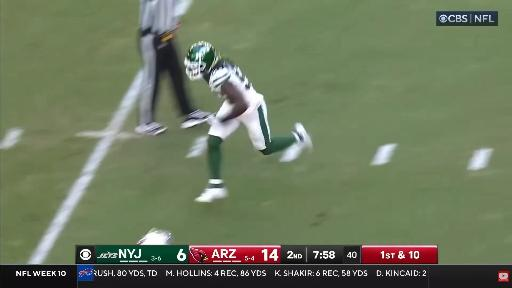Helmet: (185, 42, 220, 80), (137, 228, 171, 245)
Jersey: (205, 61, 263, 110)
Player: (185, 42, 312, 202), (137, 228, 171, 245)
